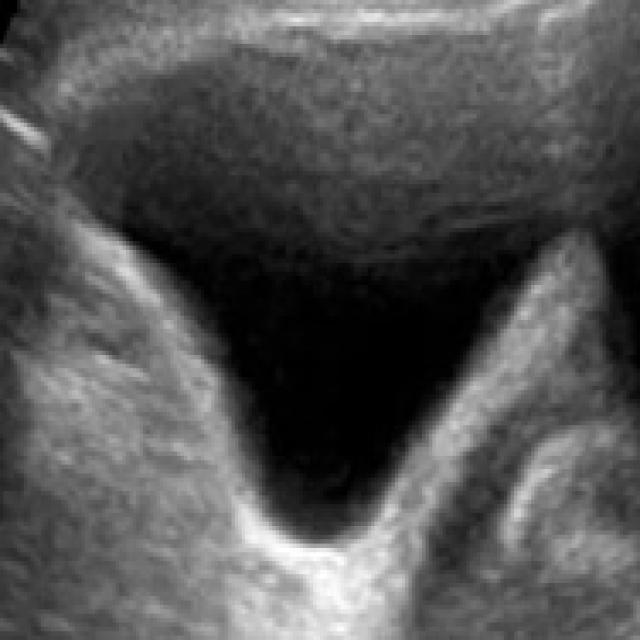bladder: (51, 14, 585, 612)
